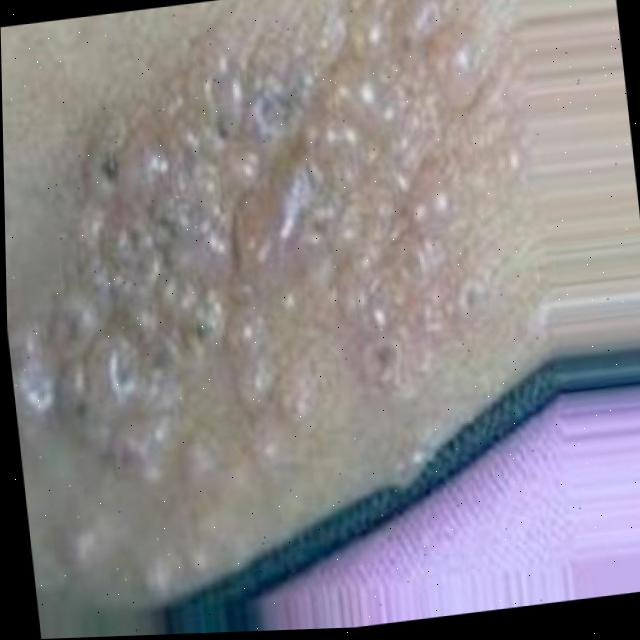Shingles: (0, 0, 520, 509)
